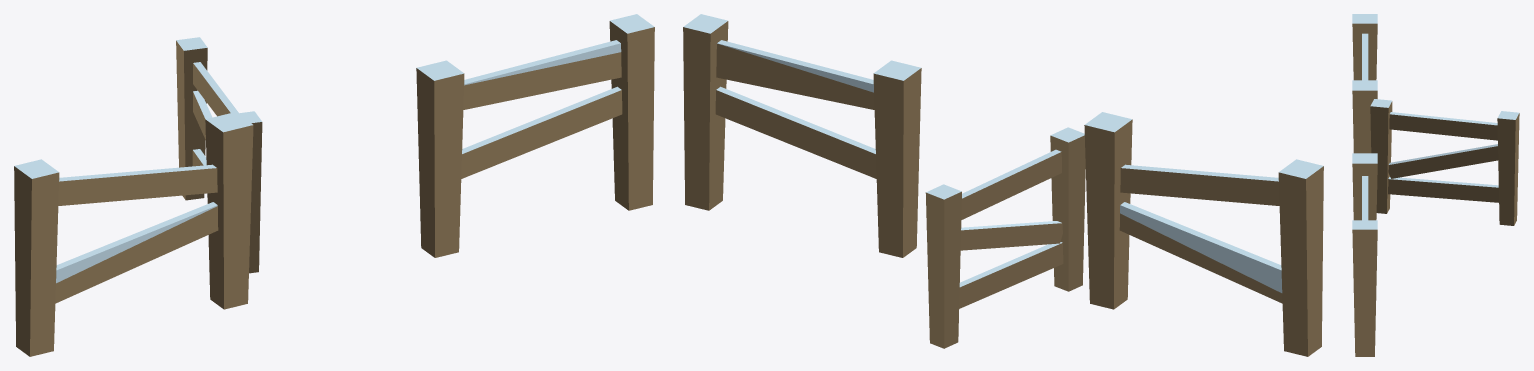
Rendered from model_polytope_snow_fence_gate.fbx.
The picture shows the model from 3 angles, left to right: view 1: azimuth 30°, elevation 25°; view 2: azimuth 150°, elevation 25°; view 3: azimuth 270°, elevation 25°; orthographic projection. The views are drawn at different scales.
Visible parts, largest first — view 1: model_polytope_snow_fence_gate; view 2: model_polytope_snow_fence_gate; view 3: model_polytope_snow_fence_gate.
Part boxes in pixels (x1=…): model_polytope_snow_fence_gate: x1=14, y1=14, x2=654, y2=356; model_polytope_snow_fence_gate: x1=683, y1=14, x2=1323, y2=356; model_polytope_snow_fence_gate: x1=1352, y1=14, x2=1519, y2=356.
Size of the model in its own units: 349 by 96.16 by 114.
1 material, 1 textured.
